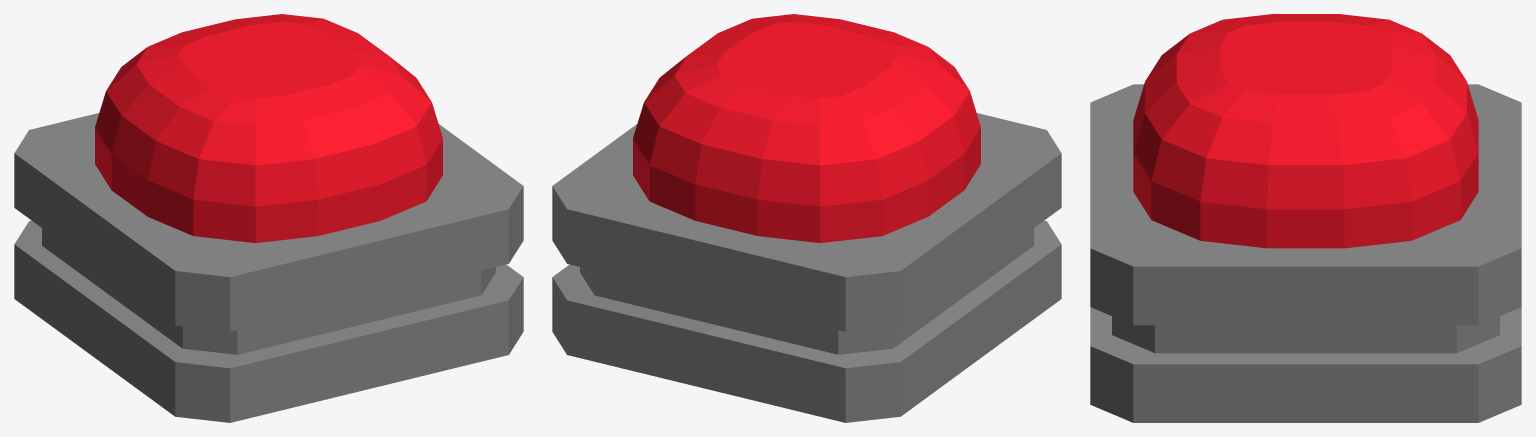
Rendered from button.fbx.
3 renders of one model, left to right at view 1: azimuth 30°, elevation 25°; view 2: azimuth 150°, elevation 25°; view 3: azimuth 270°, elevation 25°, orthographic. The views are drawn at different scales.
Parts seen in each view (by area): view 1: Cube; view 2: Cube; view 3: Cube.
Boxes of the visible parts, bbox=[...] form: Cube: bbox=[14, 14, 523, 422]; Cube: bbox=[552, 14, 1061, 422]; Cube: bbox=[1090, 14, 1521, 422].
Bounding box in the file's own units: 100 × 70 × 100.
